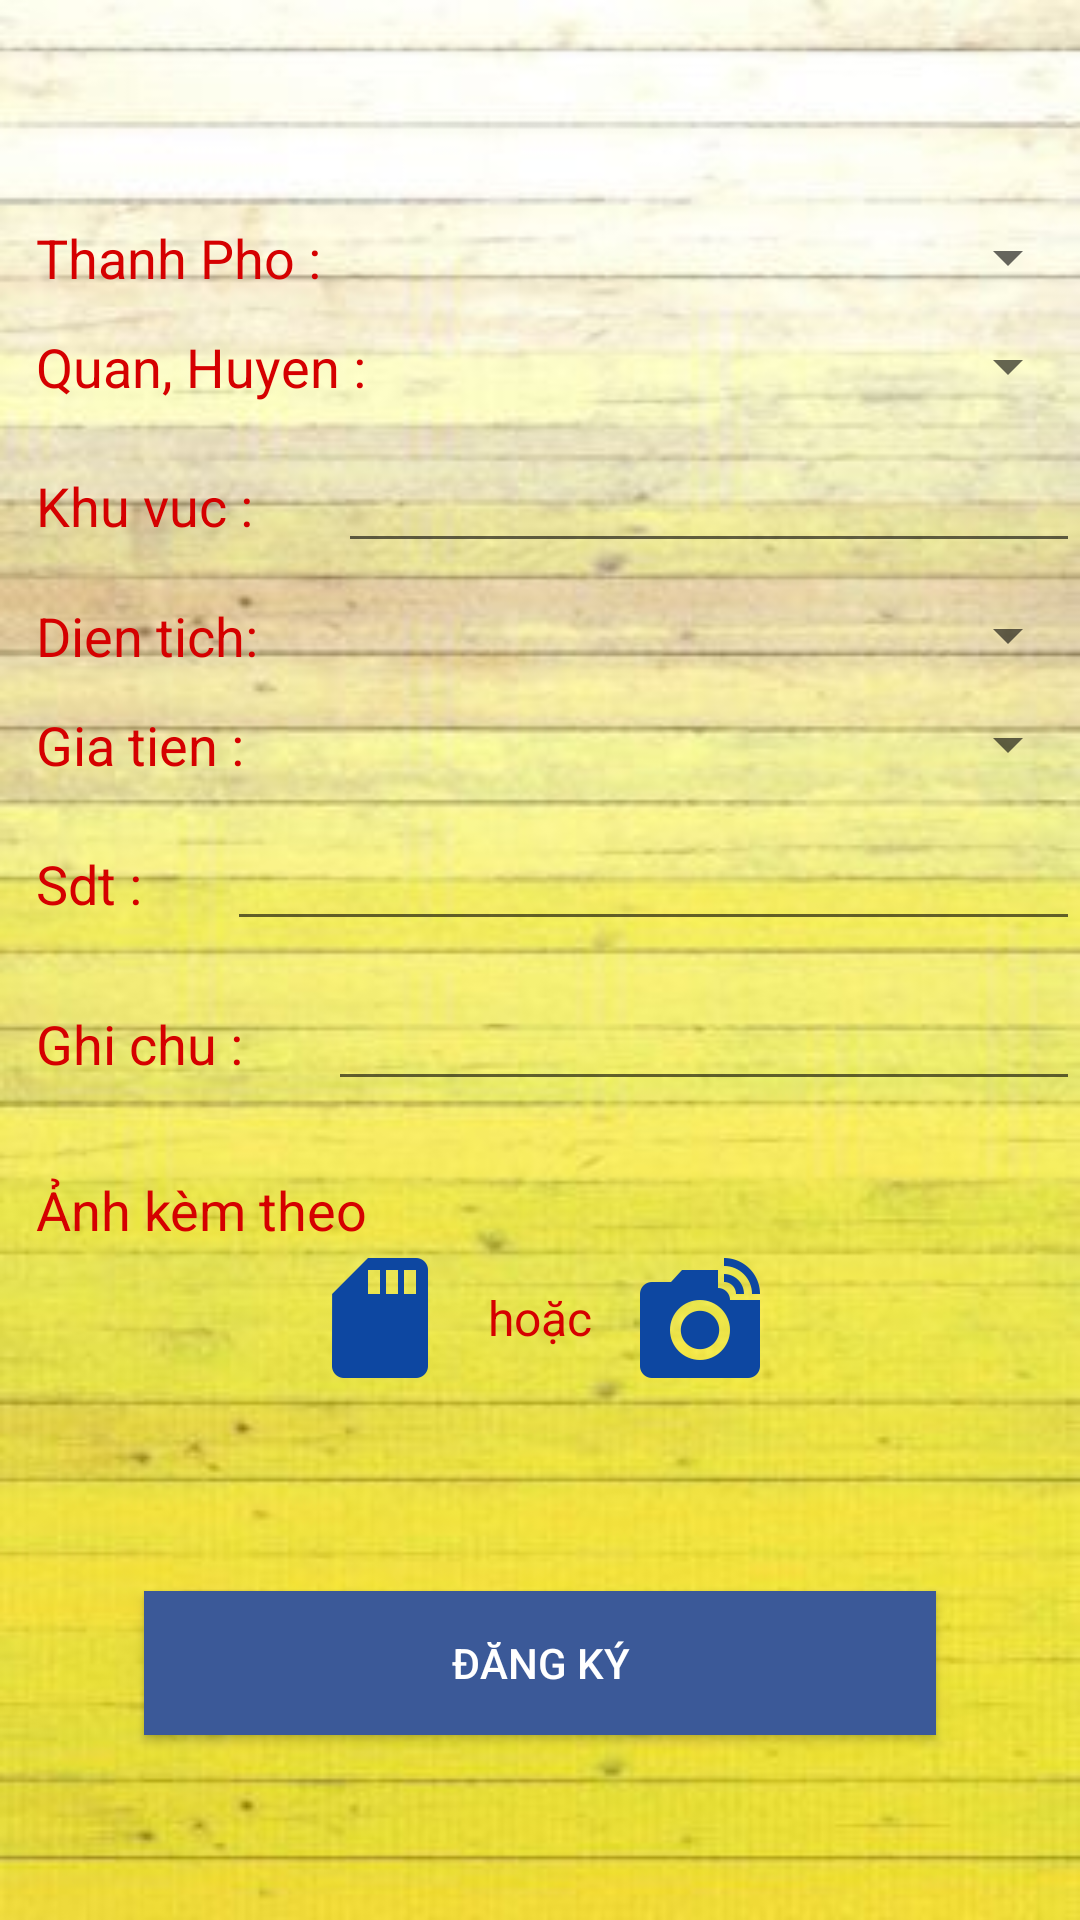

Locate icon controls on the screen. Image size 1080 x 1920, boxes as {"x1": x1, "y1": y1, "x2": x2, "y2": y2}.
linked camera: {"x1": 628, "y1": 1251, "x2": 770, "y2": 1378}
sd storage: {"x1": 308, "y1": 1250, "x2": 452, "y2": 1386}
